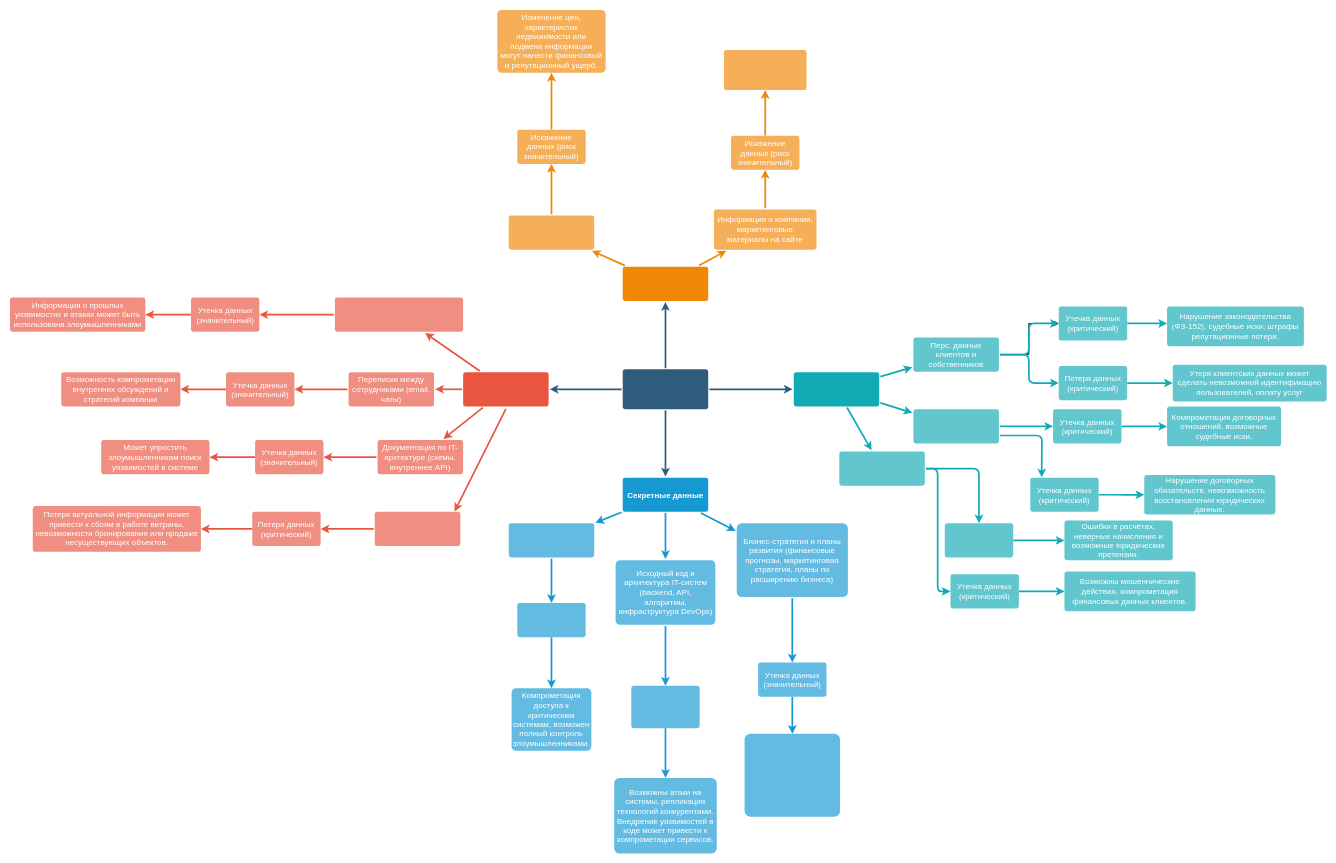
The diagram is 1336 pixels wide and 863 high, and some of its shapes have lost their labels. The box of each missing label's shape, as (x1, y1, x2, y2) in pixels:
Безопасность данных: (622, 369, 708, 409)
Внутренние данные: (463, 372, 548, 406)
Внутренние отчёты по безопасности (логи инцидентов, отчёты об уязвимостях): (335, 297, 463, 331)
Данные об объектах недвижимости, ЖКХ, туров, бронирований: (374, 512, 460, 546)
Данные по сделкам купли-продажи (критический): (913, 409, 999, 443)
Данные с витрины объектов недвижимости: (508, 215, 594, 249)
Договоры, платежные данные клиентов: (839, 451, 925, 485)
Доступы и ключи: (508, 523, 594, 557)
Искажение данных (значительный): (944, 523, 1013, 557)
Конкуренты могут использовать утечку для опережающего выхода на рынок.: (744, 734, 840, 816)
Конфедициальные данные: (793, 372, 879, 406)
Публичные данные: (622, 266, 708, 301)
Репутационные риски, недоверие клиентов компании: (724, 50, 806, 90)
Утечка или потеря данных (критический): (517, 603, 585, 637)
Утечка, потеря или искажение данных данных (критический): (631, 685, 699, 728)
